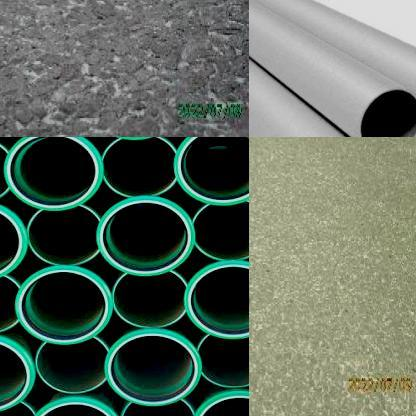pipe: (96, 197, 195, 276), (3, 137, 103, 211), (105, 330, 202, 406), (16, 268, 111, 344), (173, 137, 249, 205), (183, 261, 249, 339), (101, 137, 177, 197), (27, 206, 101, 266), (112, 271, 187, 328), (35, 337, 110, 394), (192, 200, 249, 260), (357, 87, 416, 137), (196, 334, 249, 388), (0, 334, 35, 412), (0, 200, 28, 281), (28, 398, 123, 416), (120, 399, 193, 416), (0, 276, 21, 333)
